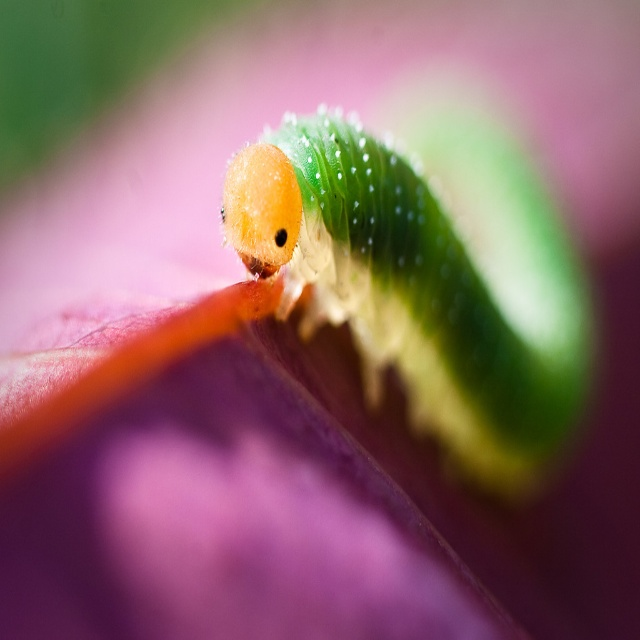Caterpillar: (223, 82, 592, 481)
